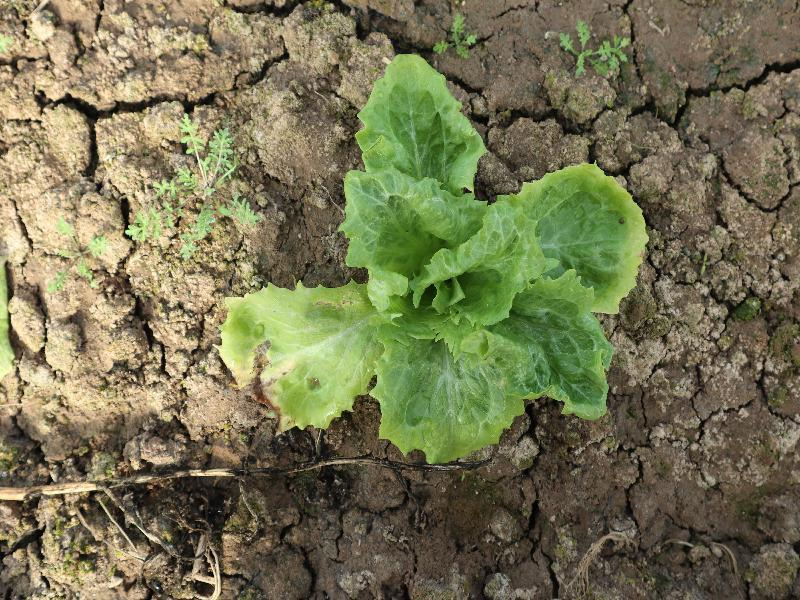lettuce: (218, 54, 645, 464)
